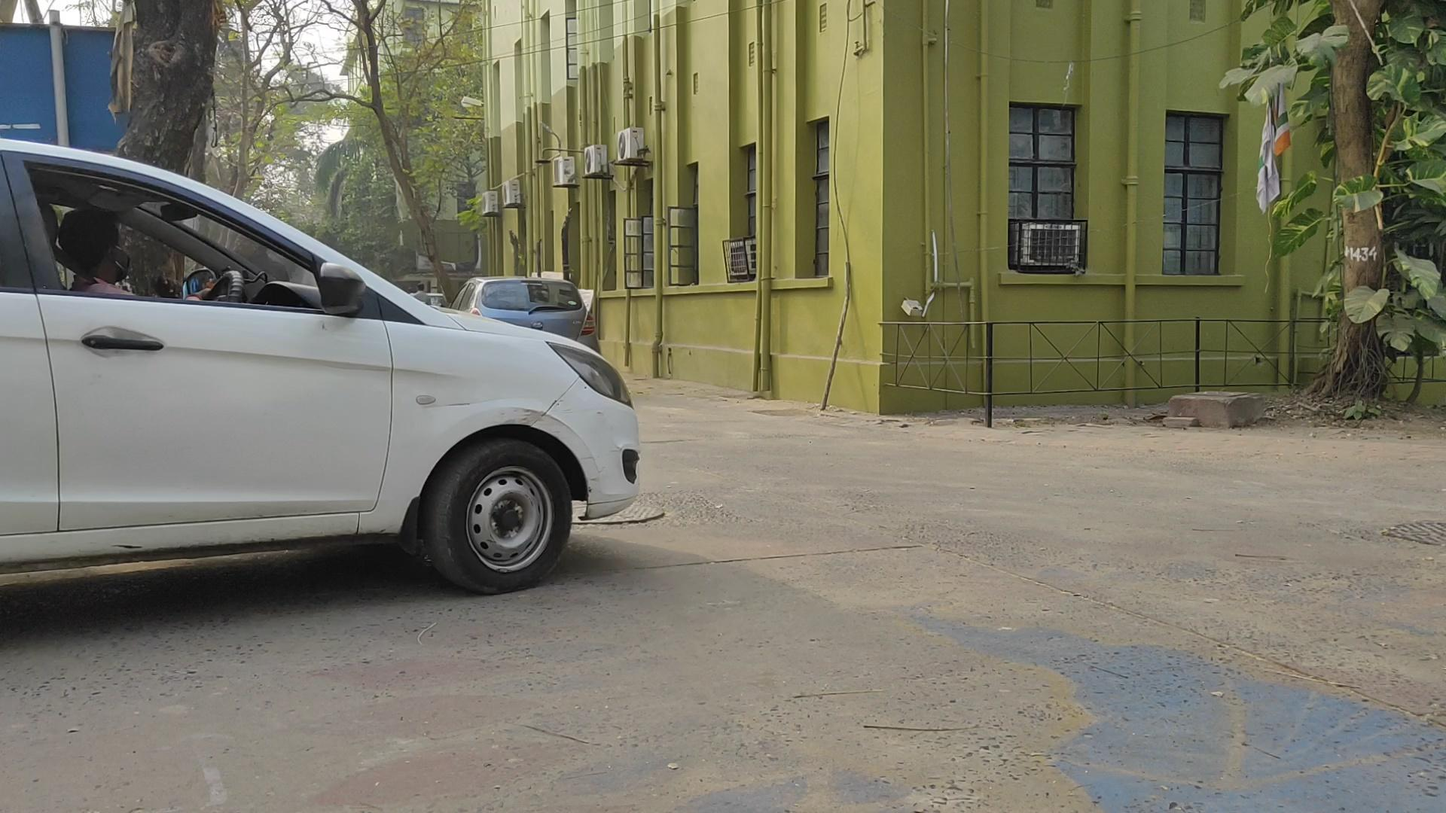car: (1, 133, 642, 611), (455, 278, 602, 382)
